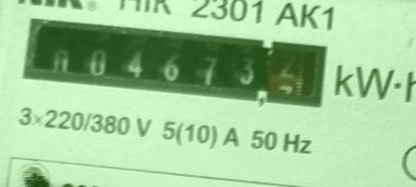0: (50, 43, 72, 75), (87, 45, 108, 78)
2: (277, 47, 300, 81)
3: (237, 53, 257, 88)
4: (125, 45, 147, 81)
6: (159, 48, 183, 84)
7: (197, 52, 222, 91)
screen: (18, 11, 333, 117)
